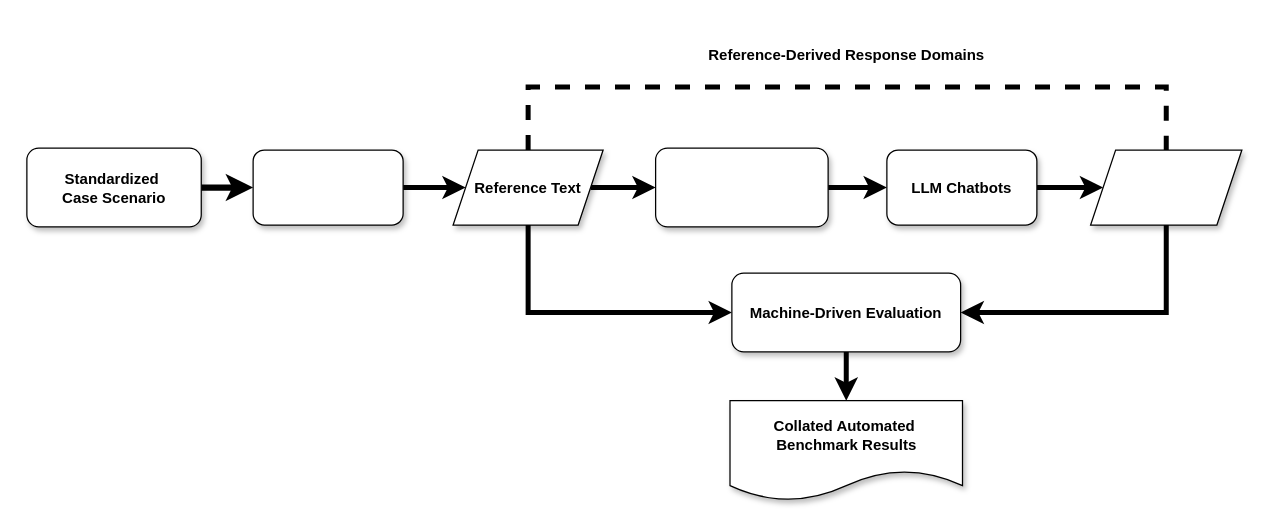
This 1271x531 diagram has some shape labels left out. The centre of each missing label's shape, as x and y in pixels:
"CEAP Consensus Human Reference" goes at point (329, 189).
"Reference-Guided Standardized Prompt" goes at point (742, 189).
"Structured LLM Outputs" goes at point (1166, 189).
